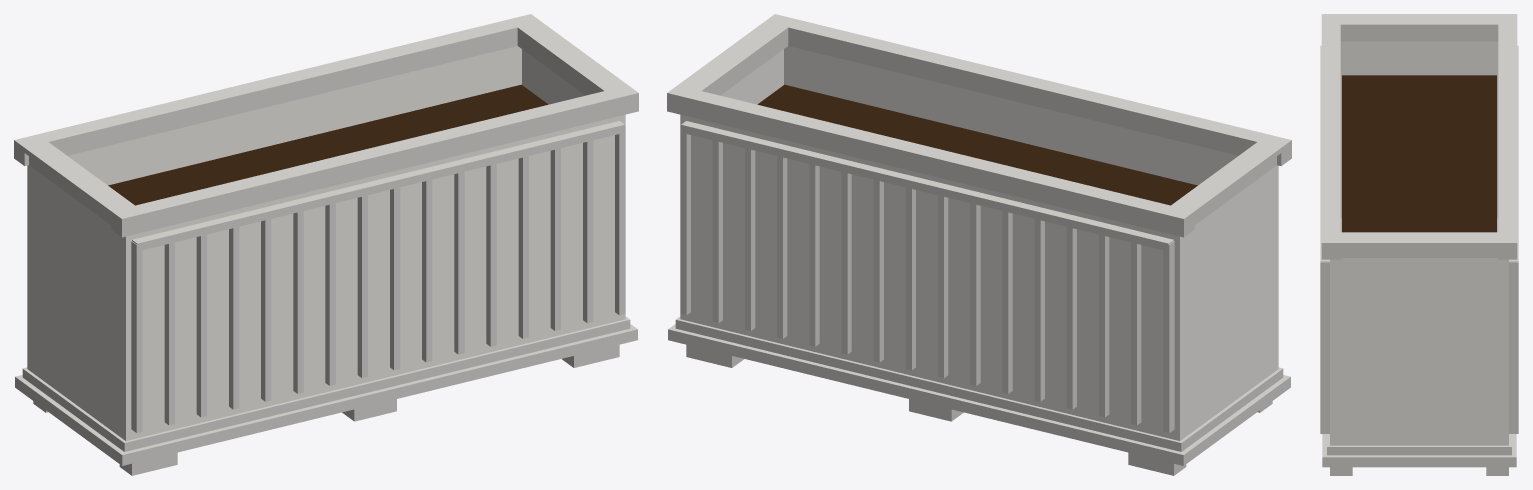
3 views of the same model, side by side, from view 1: azimuth 30°, elevation 25°; view 2: azimuth 150°, elevation 25°; view 3: azimuth 270°, elevation 25° (orthographic). The views are drawn at different scales.
Parts seen in each view (by area): view 1: left-wall, back-wall, rim-f, rim-b, soil, base-lo, front-wall, base-hi, rail-f, plank-f-0, plank-f-9, plank-f-10 (+35 smaller); view 2: left-wall, front-wall, rim-b, rim-f, soil, base-lo, back-wall, base-hi, rail-b, plank-b-0, plank-b-9, plank-b-10 (+35 smaller); view 3: right-wall, soil, left-wall, rim-f, rim-b, rim-l, rim-r, base-lo, base-hi, rim-top-r, front-wall, back-wall (+5 smaller).
Part boxes in pixels (x1,y1,x2,y2): left-wall: (27,165,136,440); back-wall: (27,46,521,325); rim-f: (111,85,638,237); rim-b: (14,14,540,166); soil: (108,84,548,205); base-lo: (15,324,637,465); front-wall: (120,117,625,440); base-hi: (22,316,630,451); rail-f: (132,121,624,251); plank-f-0: (142,245,164,427); plank-f-9: (432,174,454,356); plank-f-10: (464,166,486,348); left-wall: (1169,169,1272,440); front-wall: (784,46,1278,372); rim-b: (667,85,1194,237); rim-f: (765,14,1291,166); soil: (757,84,1197,205); base-lo: (668,324,1290,465); back-wall: (680,117,1185,439); base-hi: (675,316,1283,451); rail-b: (681,121,1173,251); plank-b-0: (1141,245,1163,427); plank-b-9: (851,174,873,356); plank-b-10: (819,166,841,348); right-wall: (1330,258,1508,445); soil: (1342,75,1496,232); left-wall: (1340,41,1498,218); rim-f: (1321,14,1340,259); rim-b: (1498,14,1517,259); rim-l: (1321,16,1517,41); rim-r: (1322,232,1517,257); base-lo: (1322,434,1516,467); base-hi: (1327,434,1511,455); rim-top-r: (1340,234,1498,247); front-wall: (1330,259,1340,445); back-wall: (1498,259,1508,445).
Bounding box in the file's own units: 0.82 × 0.4 × 0.3.
